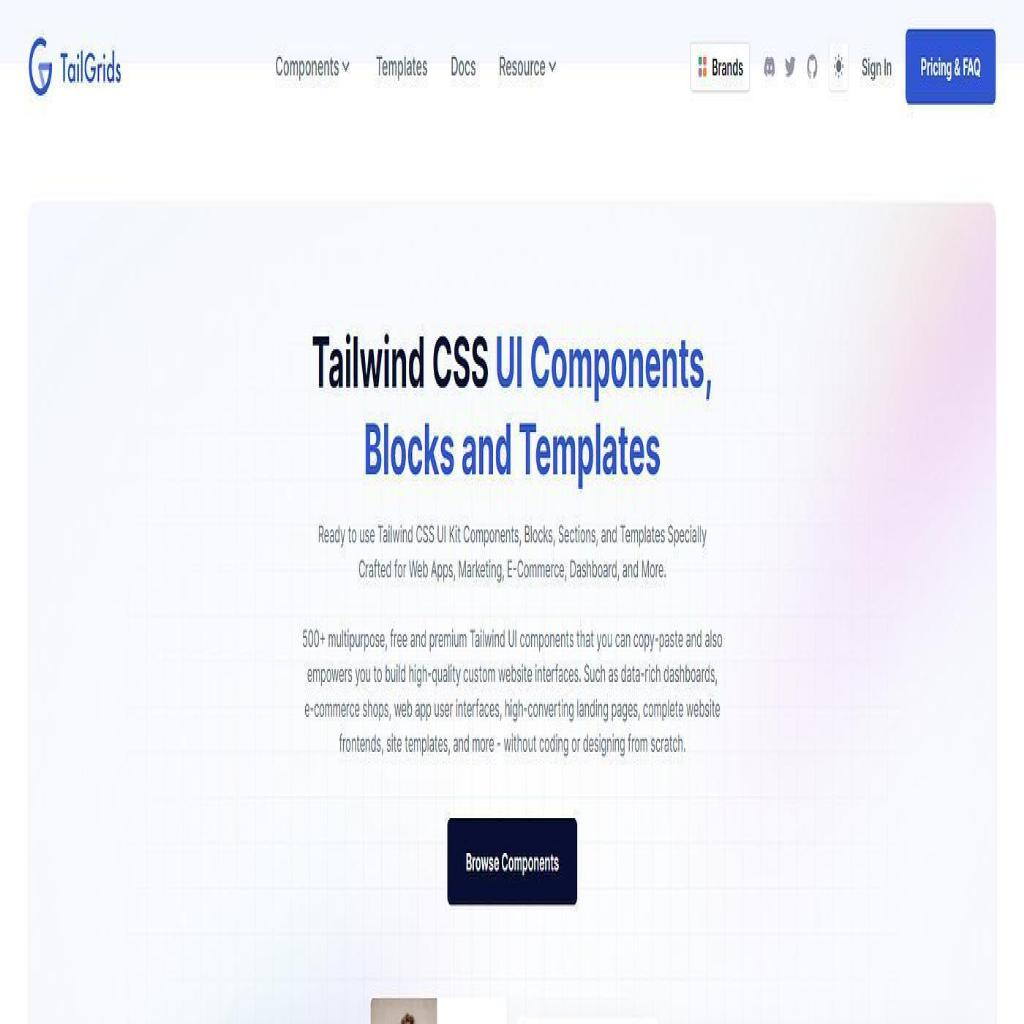button: (447, 816, 578, 908), (904, 28, 996, 104), (689, 38, 751, 96), (828, 40, 850, 94)
icon: (762, 50, 778, 84), (805, 50, 819, 82), (784, 48, 796, 81)
label: (270, 46, 341, 86), (376, 51, 429, 81), (496, 51, 548, 81), (859, 50, 894, 86), (452, 55, 478, 81)
